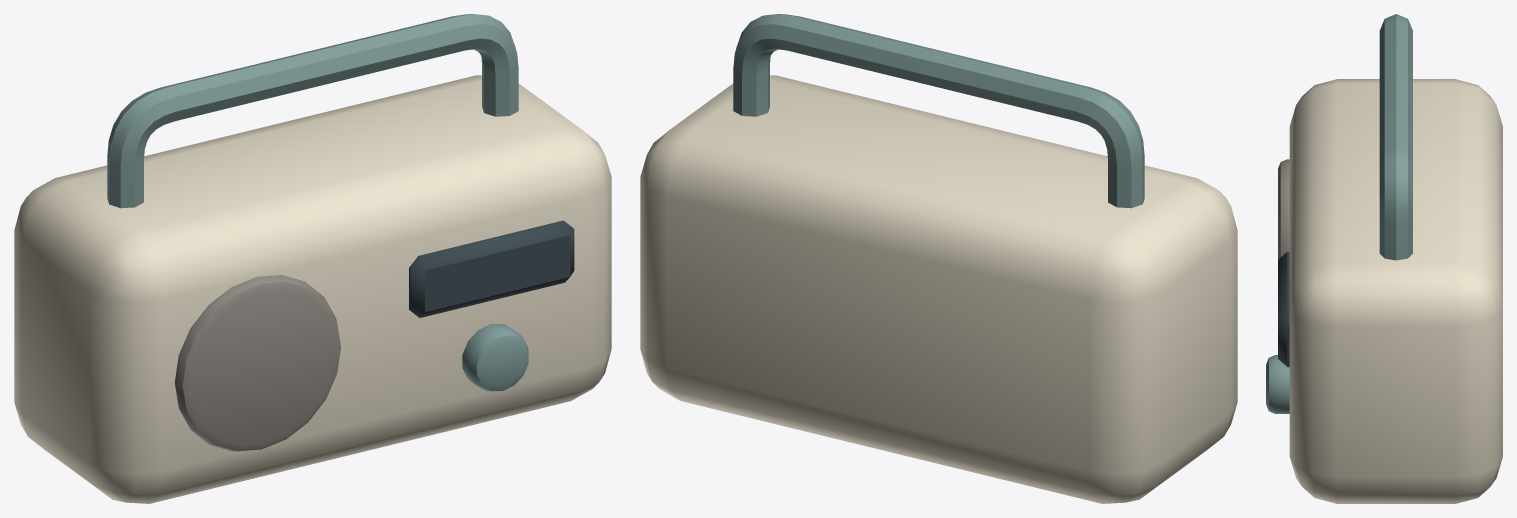
File: radio.glb
3 views of the same model, side by side, from view 1: azimuth 30°, elevation 25°; view 2: azimuth 150°, elevation 25°; view 3: azimuth 270°, elevation 25° (orthographic). The views are drawn at different scales.
Visible parts, largest first — view 1: cream, paint, steel_dark, screen; view 2: cream, paint; view 3: cream, paint, screen, steel_dark.
Part boxes in pixels (<box>): cream: <box>14,75,611,503</box>; paint: <box>107,14,528,391</box>; steel_dark: <box>174,275,340,451</box>; screen: <box>409,220,574,317</box>; cream: <box>640,75,1237,503</box>; paint: <box>733,14,1144,208</box>; cream: <box>1289,79,1502,503</box>; paint: <box>1266,14,1412,413</box>; screen: <box>1278,251,1289,367</box>; steel_dark: <box>1278,159,1289,259</box>.
Bounding box in the file's own units: 0.44 × 0.304 × 0.2.
